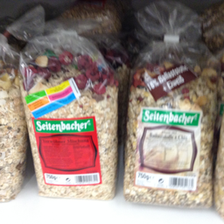cereal: (124, 40, 224, 207), (19, 46, 119, 199)
